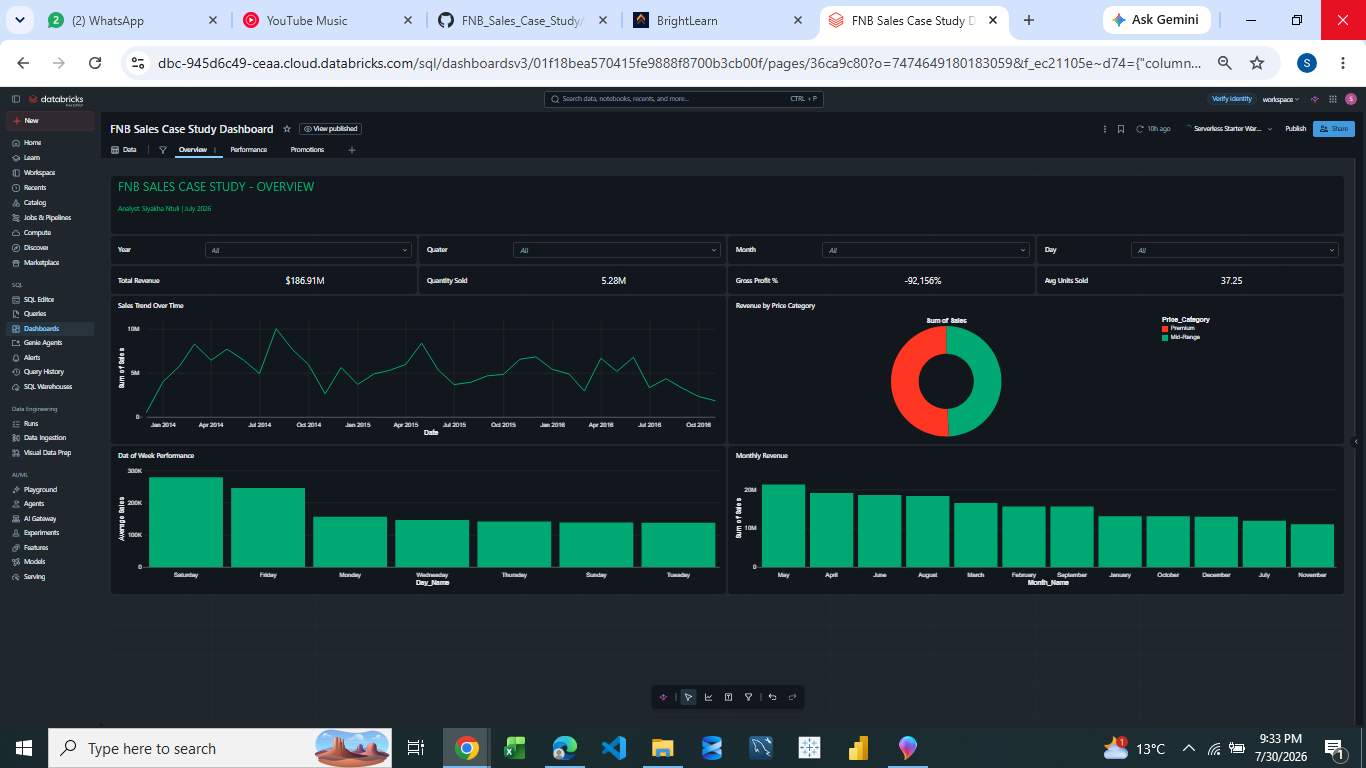

The dashboard page shown, as its layout file describes it:
{"tool":"powerbi","page":{"name":"Overview","canvas":[1280,800],"ordinal":0},"visuals":[{"type":"textbox","box":[0,0,1280,88.8],"z":0},{"type":"slicer","title":"Select Year","fields":{"Values":["FNB_POWER__BI (1).Year"]},"box":[0,90,322.5,90],"z":1},{"type":"slicer","title":"Select Quater","fields":{"Values":["FNB_POWER__BI (1).Quarter"]},"box":[322.5,90,317.5,90],"z":2},{"type":"slicer","title":"Select Month","fields":{"Values":["FNB_POWER__BI (1).Month"]},"box":[640,90,312.5,90],"z":3},{"type":"slicer","title":"Select Day","fields":{"Values":["FNB_POWER__BI (1).Day_Name"]},"box":[952.5,90,327.5,90],"z":4},{"type":"cardVisual","title":"Total Revenue","fields":{"Data":["Sum(FNB_POWER__BI (1).Sales)"]},"box":[0,200,312.5,101.2],"z":5},{"type":"cardVisual","title":"Total Units Sold","fields":{"Data":["Sum(FNB_POWER__BI (1).Quantity Sold)"]},"box":[312.5,200,327.5,101.2],"z":6},{"type":"cardVisual","title":"Avg Unit Price","fields":{"Data":["Avg(FNB_POWER__BI (1).Unit_Price)"]},"box":[640,200,312.5,101.2],"z":7},{"type":"cardVisual","title":"Gross Profit %","fields":{"Data":["Sum(FNB_POWER__BI (1).Gross_Profit_Pct)"]},"box":[952.5,200,327.5,101.2],"z":8},{"type":"lineChart","title":"Sales Trend Over Time","fields":{"Y":["Sum(FNB_POWER__BI (1).Sales)"],"Category":["FNB_POWER__BI (1).Month_Name","FNB_POWER__BI (1).Date.Variation.Date Hierarchy.Year"]},"box":[0,318.8,582.5,216.2],"z":9},{"type":"columnChart","title":"Monthly Revenue","fields":{"Category":["FNB_POWER__BI (1).Month_Name"],"Y":["Sum(FNB_POWER__BI (1).Sales)"],"Series":["FNB_POWER__BI (1).Month_Name"]},"box":[608.8,552.5,671.2,220],"z":10},{"type":"clusteredBarChart","title":"Day of Week Performance","fields":{"Category":["FNB_POWER__BI (1).Day_Name"],"Y":["Avg(FNB_POWER__BI (1).Sales)"]},"box":[0,552.5,582.5,216.2],"z":11},{"type":"donutChart","title":"Revenue by Category","fields":{"Category":["FNB_POWER__BI (1).Price_Category"],"Y":["Sum(FNB_POWER__BI (1).Sales)"]},"box":[608.8,318.8,671.2,216.2],"z":12}]}

Visuals, with their boxes on the page's 1280x800 design canvas (x1, y1, x2, y2). These are canvas units, not pixel positions in the 1366x768 screenshot, which may show the page scaled, cropped or inside an application window:
textbox: box=[0, 0, 1280, 89]
"Select Year" slicer: box=[0, 90, 322, 180]
"Select Quater" slicer: box=[322, 90, 640, 180]
"Select Month" slicer: box=[640, 90, 952, 180]
"Select Day" slicer: box=[952, 90, 1280, 180]
"Total Revenue" cardVisual: box=[0, 200, 312, 301]
"Total Units Sold" cardVisual: box=[312, 200, 640, 301]
"Avg Unit Price" cardVisual: box=[640, 200, 952, 301]
"Gross Profit %" cardVisual: box=[952, 200, 1280, 301]
"Sales Trend Over Time" lineChart: box=[0, 319, 582, 535]
"Monthly Revenue" columnChart: box=[609, 552, 1280, 772]
"Day of Week Performance" clusteredBarChart: box=[0, 552, 582, 769]
"Revenue by Category" donutChart: box=[609, 319, 1280, 535]
